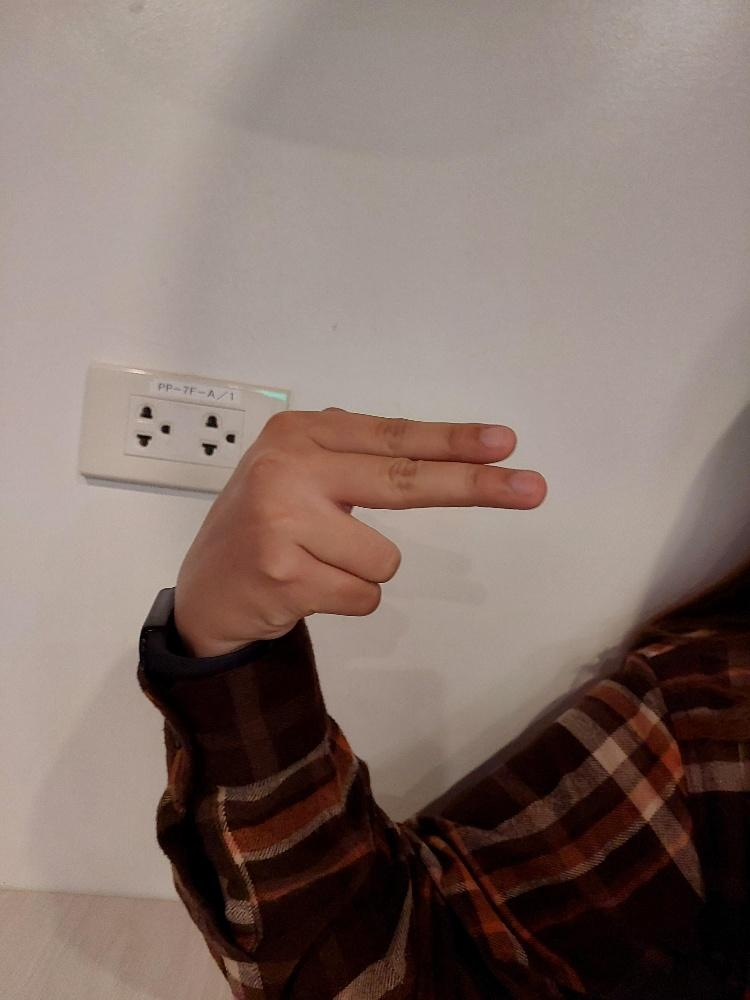h: (170, 403, 549, 645)
